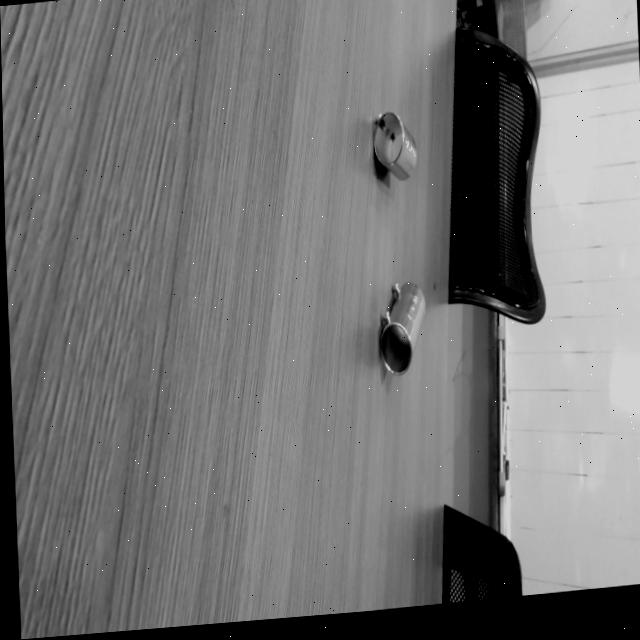Co_Lon: (367, 277, 430, 378)
Co_Nho: (366, 108, 420, 184)
